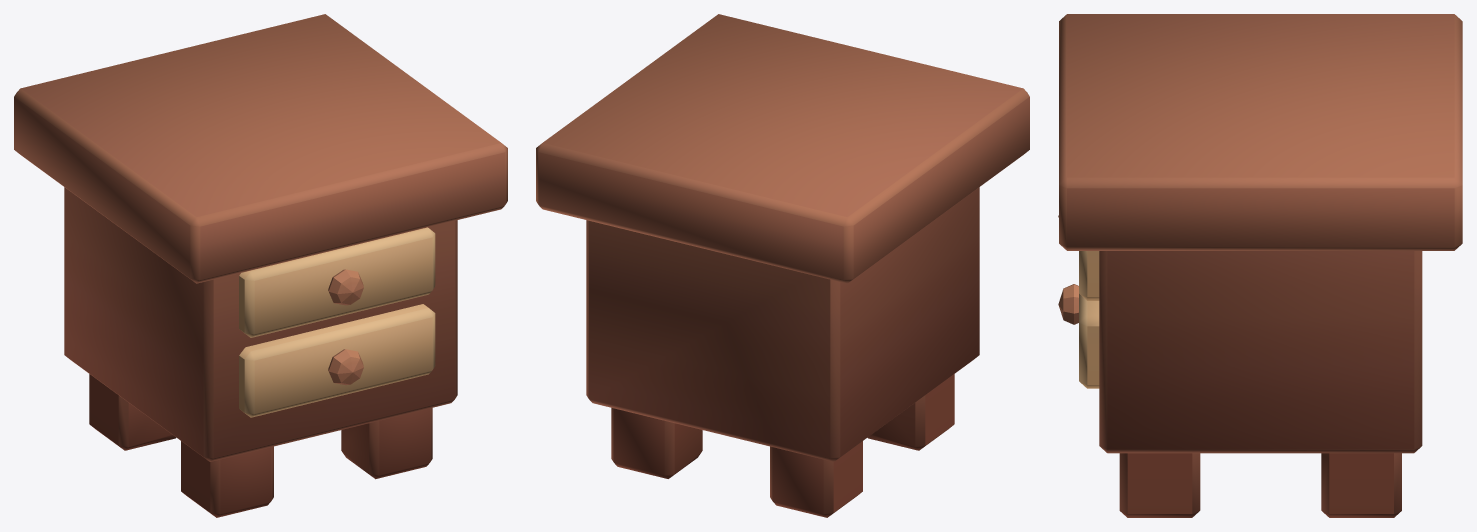
The model's file is kay-criado-mudo.gltf.
3 views of the same model, side by side, from view 1: azimuth 30°, elevation 25°; view 2: azimuth 150°, elevation 25°; view 3: azimuth 270°, elevation 25° (orthographic). The views are drawn at different scales.
Visible parts, largest first — view 1: cabinet_small; view 2: cabinet_small; view 3: cabinet_small.
Part boxes in pixels (x1,y1,x2,y2): cabinet_small: (14,14,507,517); cabinet_small: (536,14,1029,517); cabinet_small: (1058,14,1462,517).
Size of the model in its own units: 0.65 by 0.65 by 0.651.
Materials: 1 (1 with a texture image).
